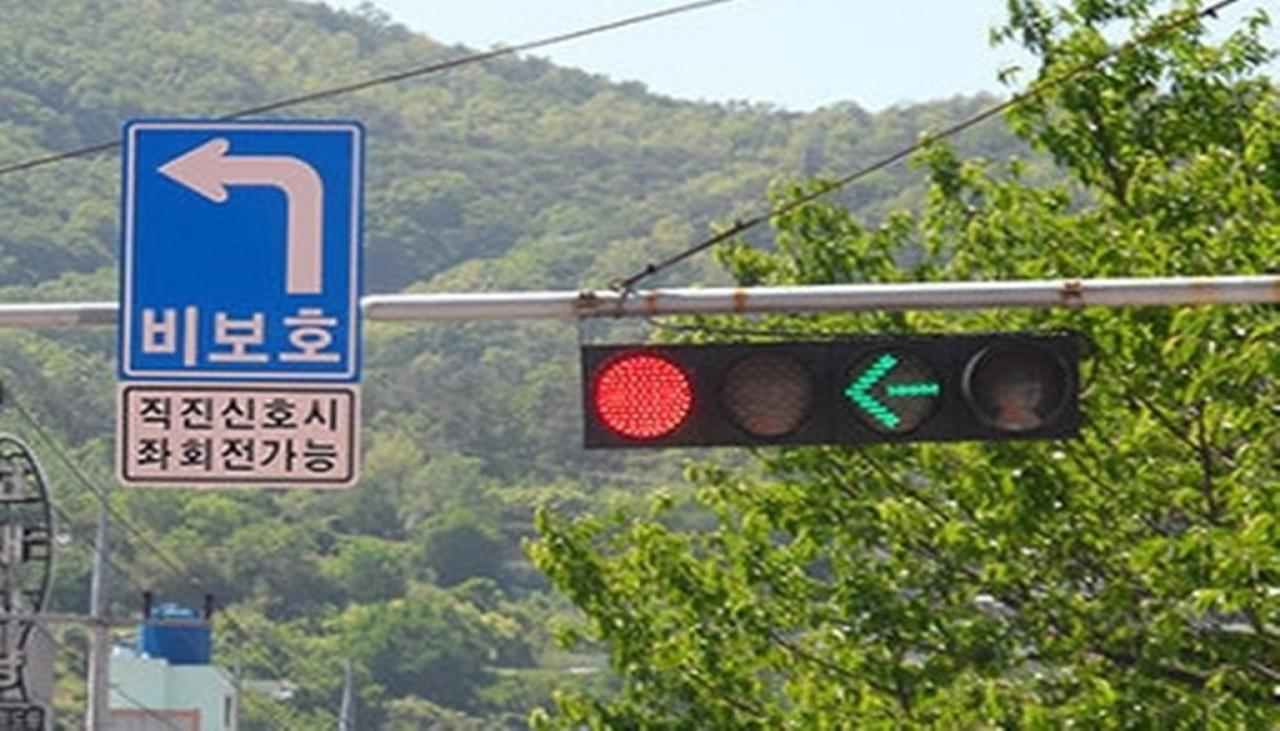Left turn: (820, 334, 950, 444)
Red Light: (584, 345, 698, 450)
